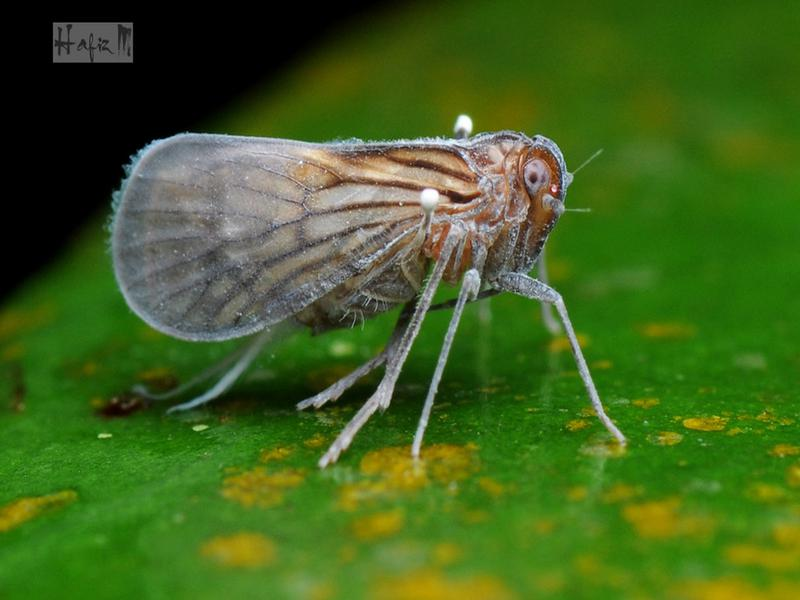White_backed_plant_hopper: (92, 114, 603, 393)
